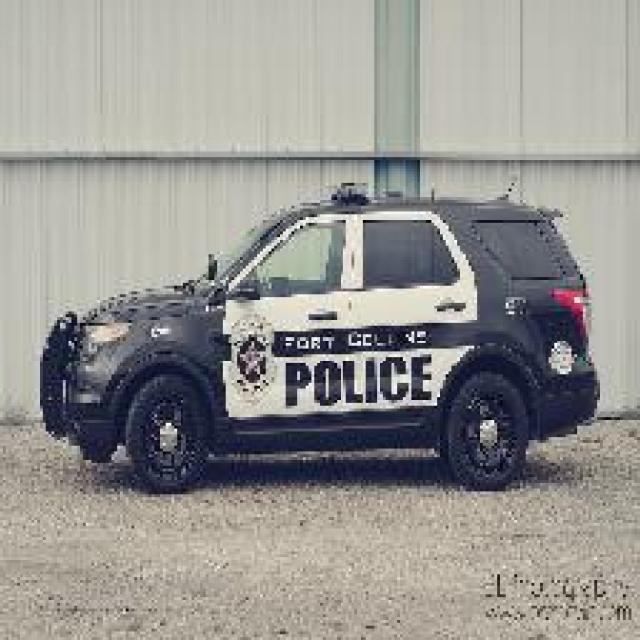Police-car: (34, 180, 600, 494)
